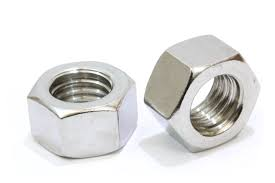Thread: (175, 62, 251, 139), (42, 69, 117, 109)
